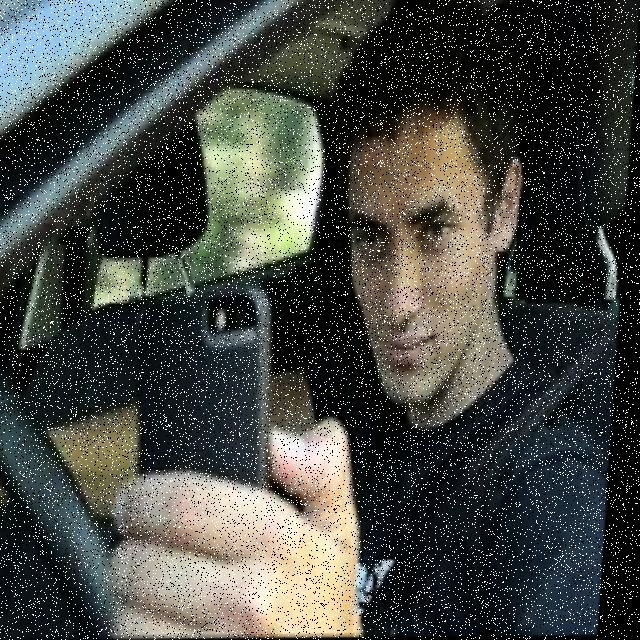seatbelt: (360, 282, 626, 638)
